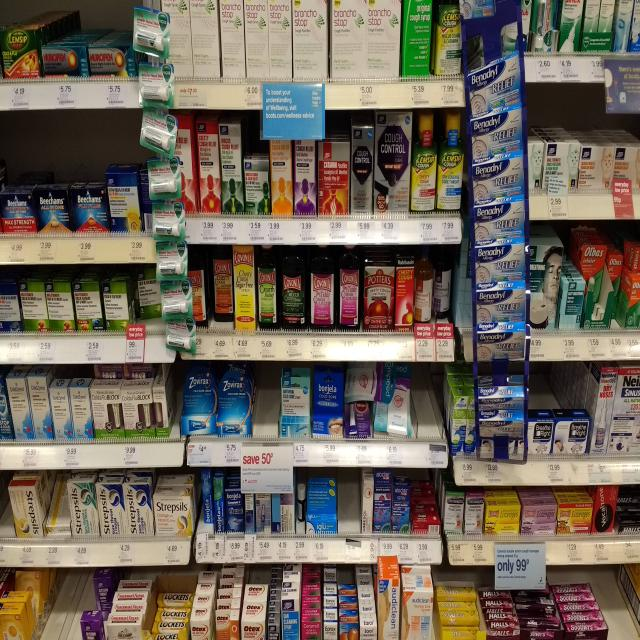empty: (38, 569, 97, 640), (244, 360, 284, 440), (599, 571, 637, 640), (414, 374, 443, 450), (337, 469, 357, 540)
